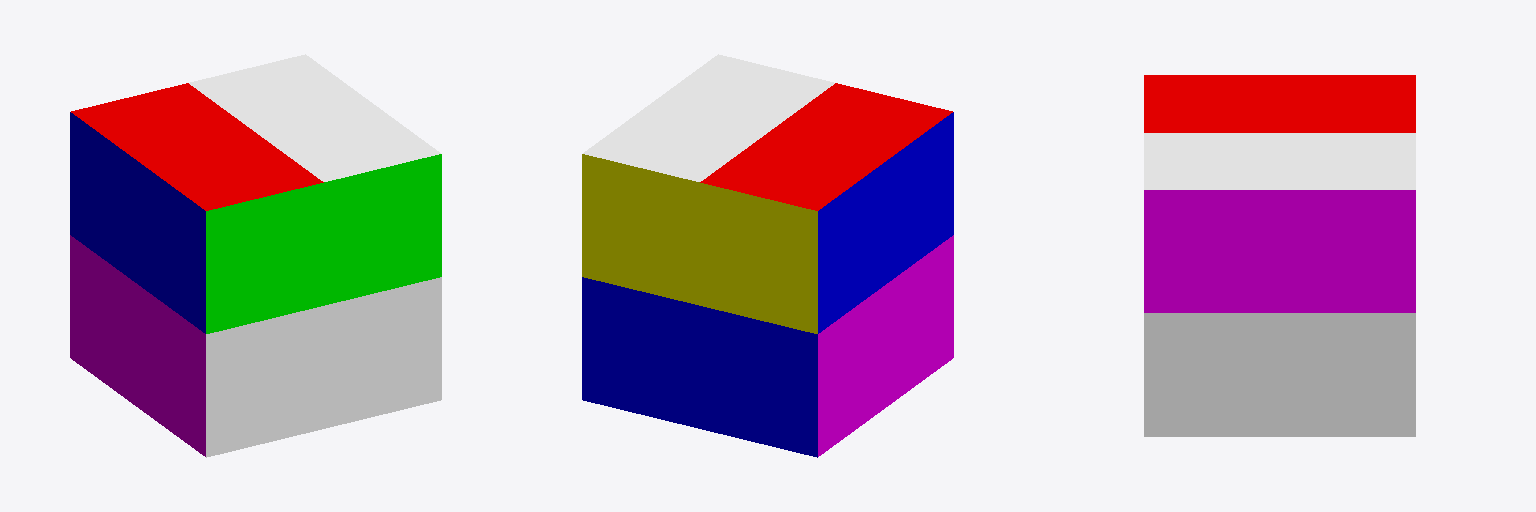
The picture shows the model from 3 angles: view 1: azimuth 30°, elevation 25°; view 2: azimuth 150°, elevation 25°; view 3: azimuth 270°, elevation 25°; orthographic projection.
Visible parts, largest first — view 1: Cube; view 2: Cube; view 3: Cube.
Boxes of the visible parts, x1=… form: Cube: x1=70, y1=54, x2=441, y2=457; Cube: x1=582, y1=54, x2=953, y2=457; Cube: x1=1144, y1=75, x2=1415, y2=436.
Size of the model in its own units: 2 by 2 by 2.
1 materials, 1 textured.